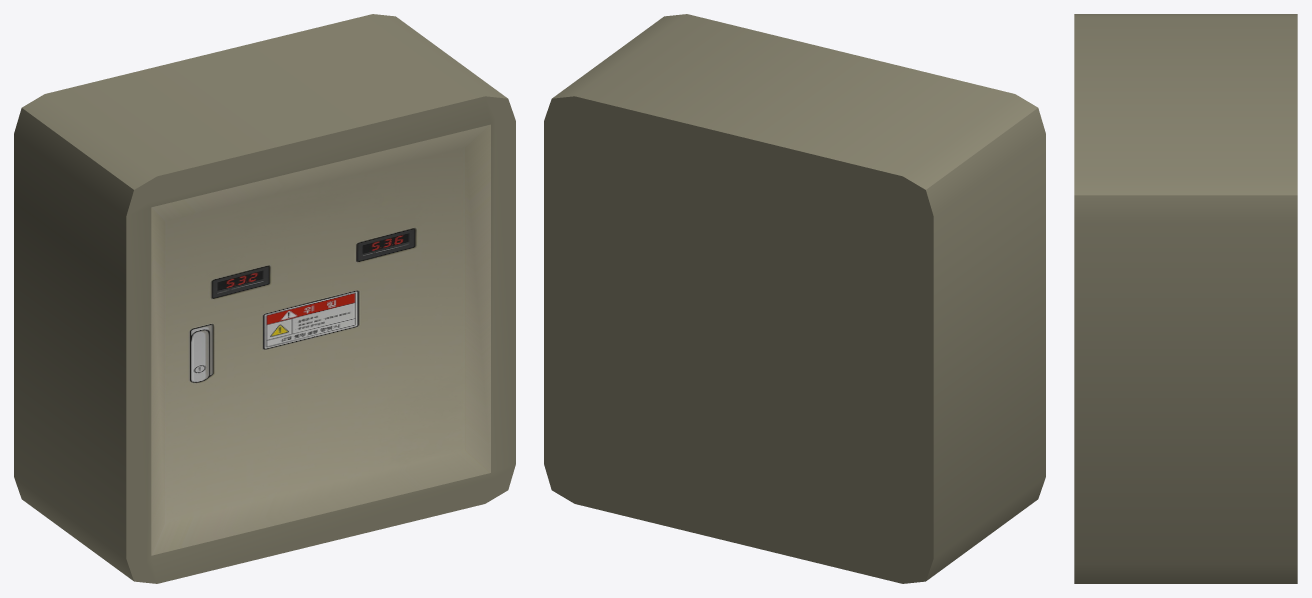
3 views of the same model, side by side, from view 1: azimuth 30°, elevation 25°; view 2: azimuth 150°, elevation 25°; view 3: azimuth 270°, elevation 25° (orthographic).
Visible parts, largest first — view 1: PLC본체(전원환경감시)024; view 2: PLC본체(전원환경감시)024; view 3: PLC본체(전원환경감시)024.
Boxes of the visible parts, x1,y1,x2,y2 form: PLC본체(전원환경감시)024: (14, 14, 515, 583); PLC본체(전원환경감시)024: (544, 14, 1045, 583); PLC본체(전원환경감시)024: (1074, 14, 1297, 583).
Bounding box in the file's own units: 0.2 × 0.2 × 0.1.
Materials: 2 (1 with a texture image).
